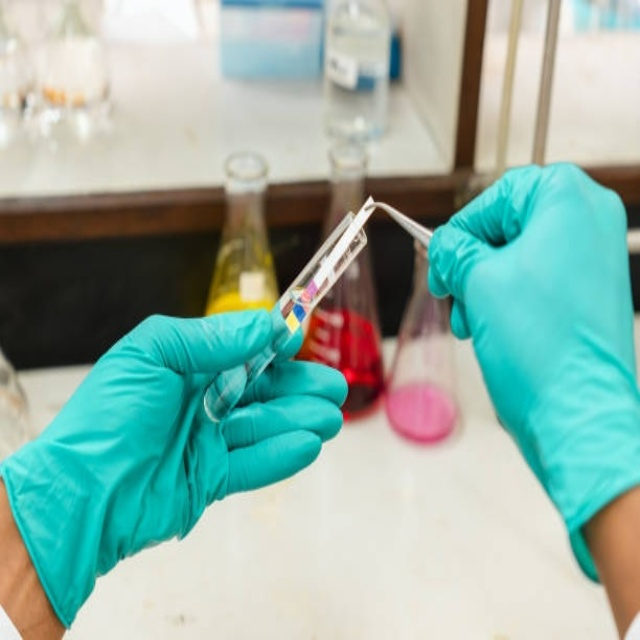Guantes: (1, 304, 345, 633), (424, 158, 639, 583)
